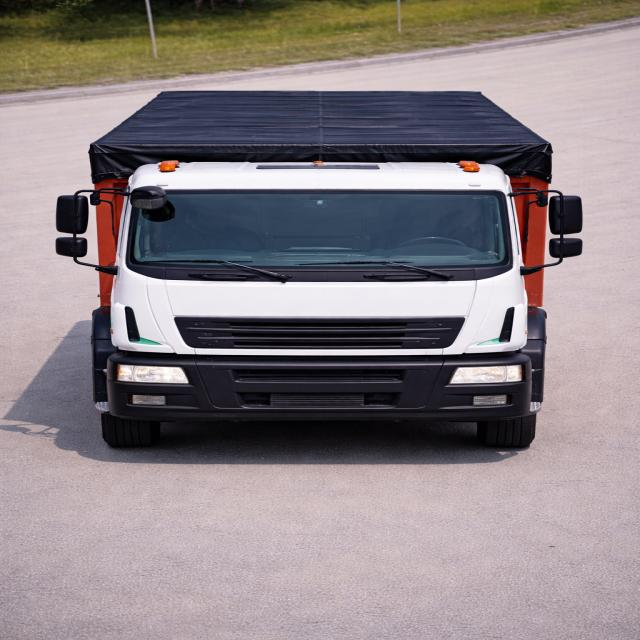Box: (90, 90, 545, 159)
Truck: (55, 72, 586, 448)
